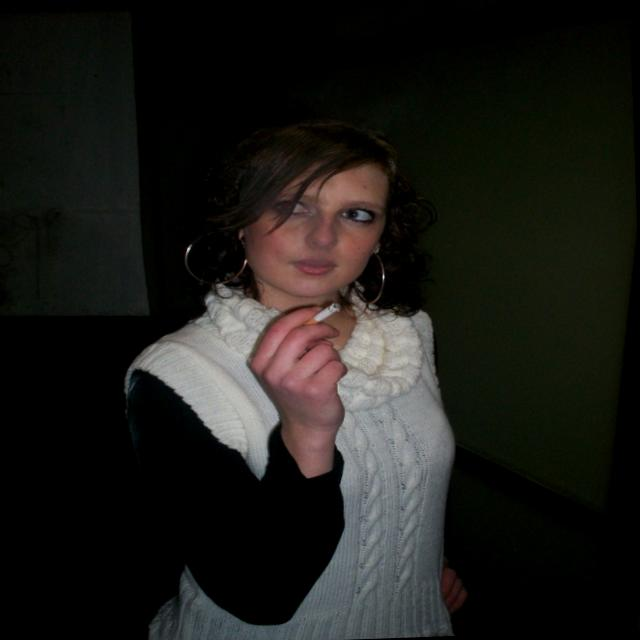cigarette: (314, 299, 344, 344)
